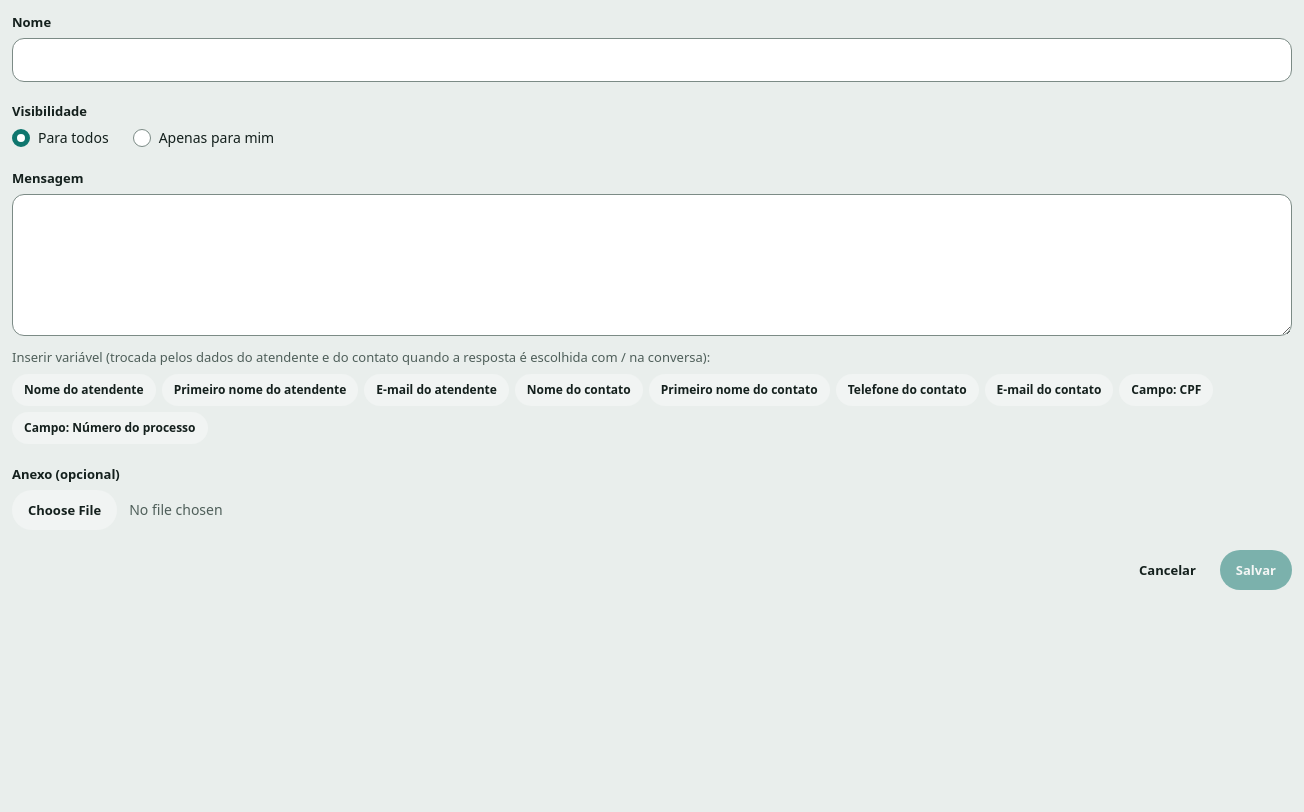
Test: QuickAnswerForm › replaces a selection with a custom field variable
The width and height of the screenshot is (1304, 812).
Type "Seu processo: XXX" into the text box labelled "Mensagem" at (652, 265), box [12,194,1292,336]
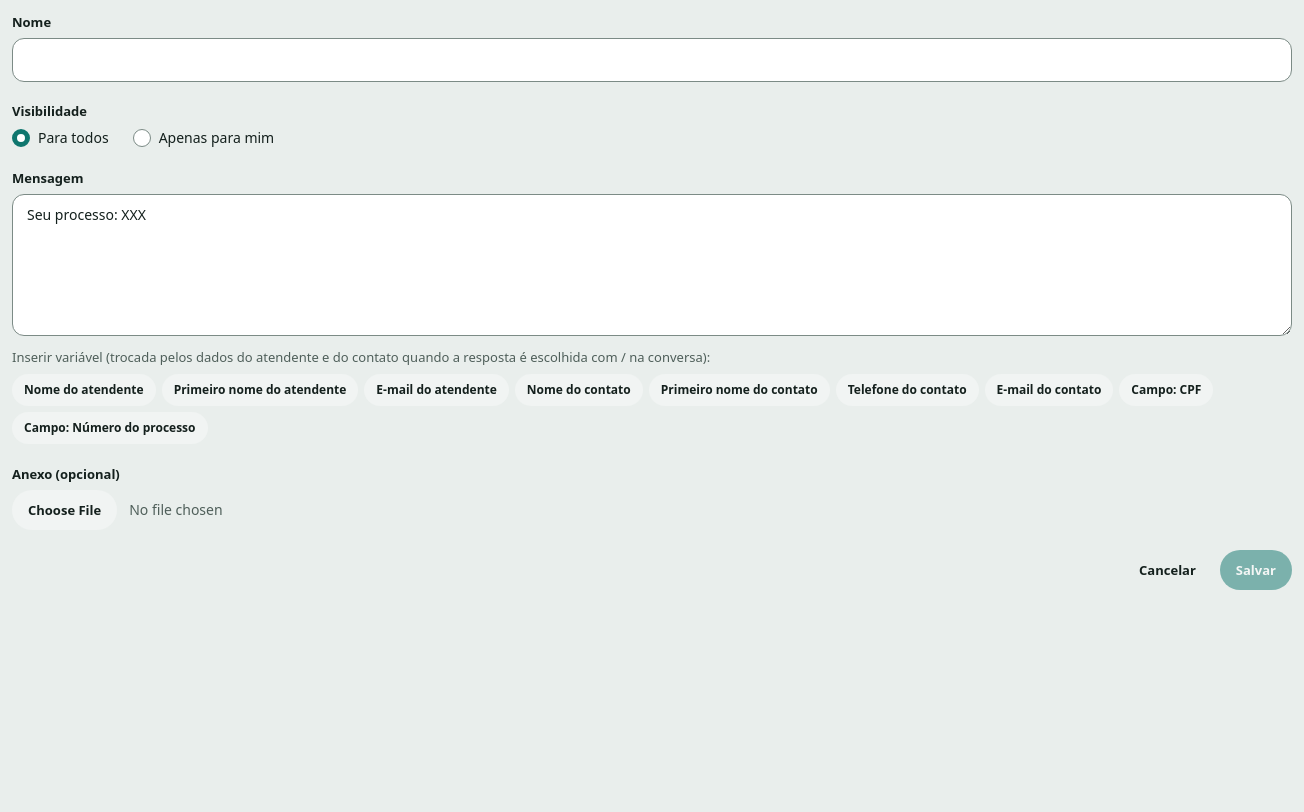
Click the button "Campo: Número do processo" at (110, 428), box [12,412,208,444]
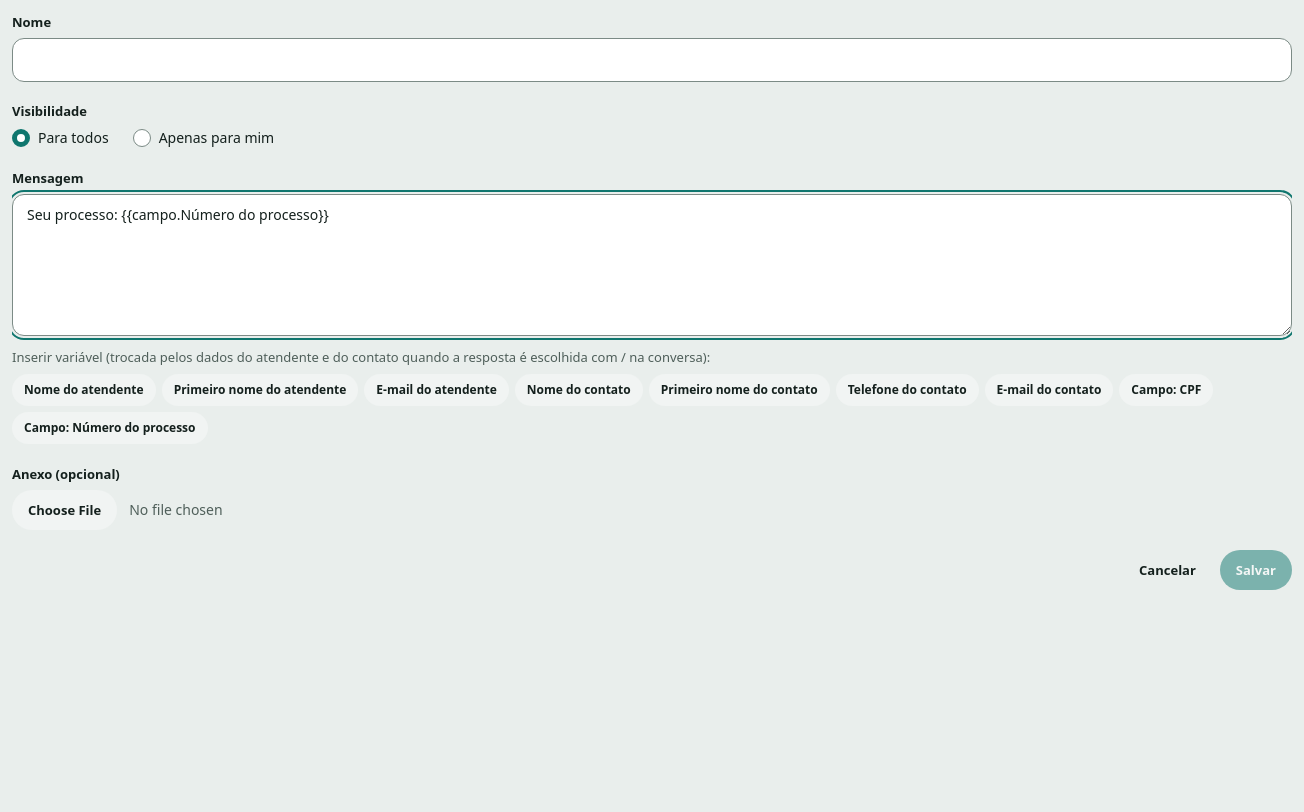
Check: the text box labelled "Mensagem" holds "Seu processo: {{campo.Número do processo}}", box [12,194,1292,336]
